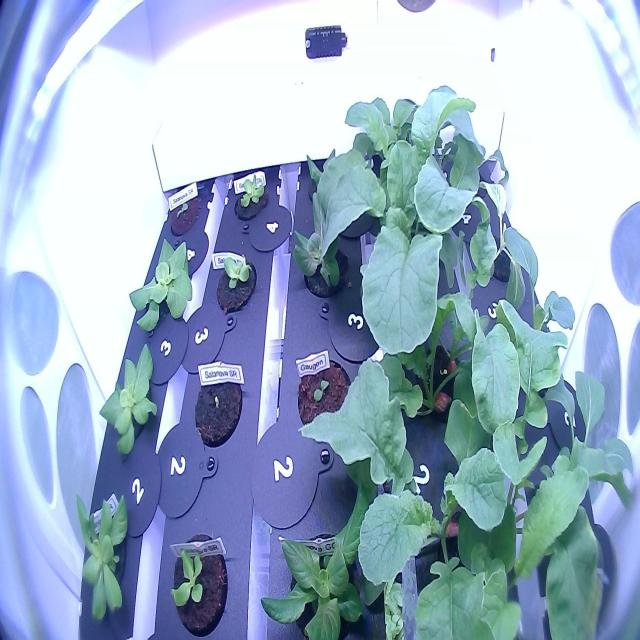germination: (293, 350, 355, 444), (164, 186, 203, 240)
pod: (191, 353, 245, 449)
young: (254, 460, 394, 640), (68, 484, 137, 627), (288, 184, 358, 312), (92, 339, 160, 468), (124, 227, 199, 339), (161, 523, 232, 638), (210, 244, 262, 319), (226, 170, 273, 232)
